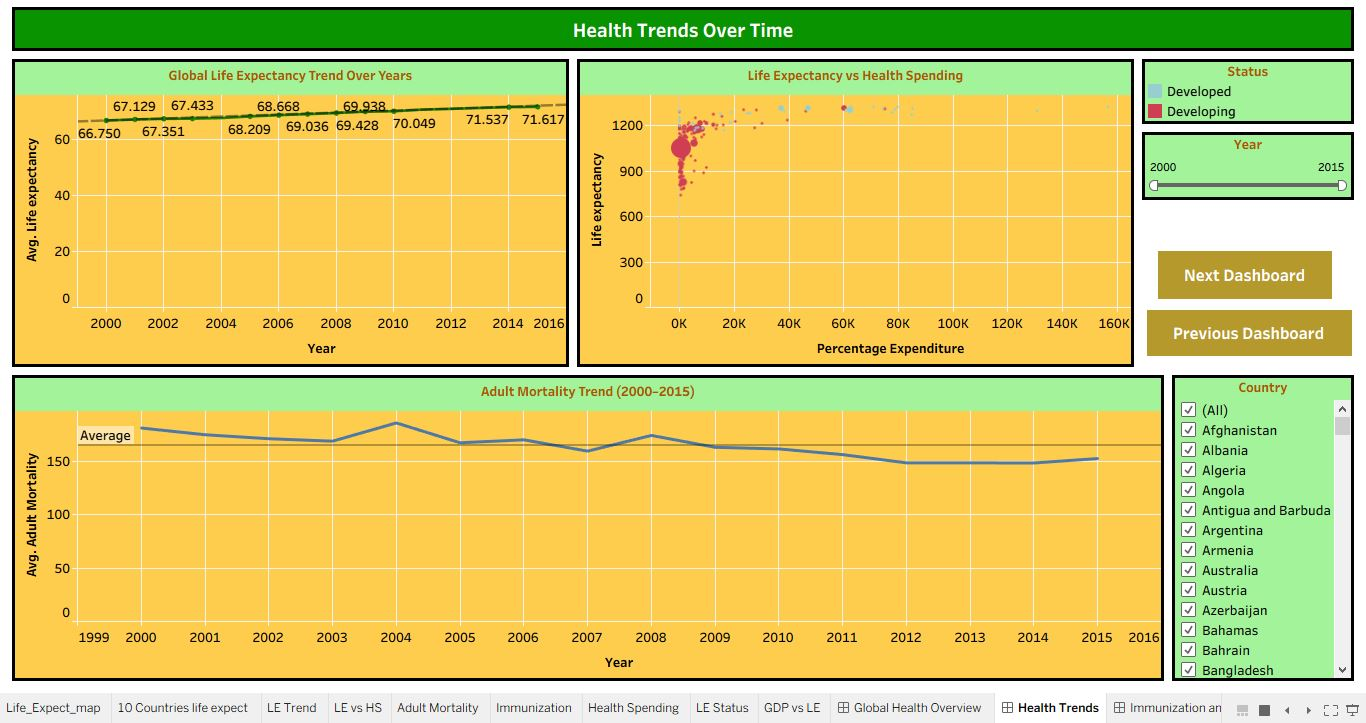

This screenshot's page, from the dashboard's own definition file:
{"tool":"tableau","page":{"name":"Health Trends","canvas":[1000,1000],"units":"permille","ordinal":1},"visuals":[{"type":"text","box":[6.9,14.5,986.1,74.3]},{"type":"worksheet","title":"LE Trend ","mark":"Line","rows":["Life expectancy "],"cols":["Year"],"box":[6.9,88.8,412.5,449.3]},{"type":"worksheet","title":"LE vs HS","mark":"Circle","rows":["Life expectancy "],"cols":["percentage expenditure"],"box":[419.5,88.8,412.6,449.3]},{"type":"legend","title":"LE vs HS","param":"[federated.0gwjj4a1etb9691c4ut6100xn9h3].[none:Status:nk]","box":[832,88.8,161.1,132.2]},{"type":"filter","title":"Adult Mortality","param":"[federated.0gwjj4a1etb9691c4ut6100xn9h3].[none:Year:qk]","box":[832,221,161.1,137.7]},{"type":"dashboard-object","box":[845.9,362.3,131.6,77.9]},{"type":"dashboard-object","box":[837.2,447.5,154.1,74.3]},{"type":"worksheet","title":"Adult Mortality","mark":"Automatic","rows":["Adult Mortality"],"cols":["Year"],"box":[6.9,538,847.6,447.5]},{"type":"filter","title":"Adult Mortality","param":"[federated.0gwjj4a1etb9691c4ut6100xn9h3].[none:Country:nk]","box":[854.5,538,138.6,447.5]}]}

Visuals, with their boxes on the dashboard's canvas, which has no fixed pixel size, in thousandths of its width and height (x1, y1, x2, y2). These are canvas units, not pixel positions in the 1366x723 screenshot, which may show the page scaled, cropped or inside an application window:
text: (7,14,993,89)
"LE Trend " worksheet (Line marks): (7,89,419,538)
"LE vs HS" worksheet (Circle marks): (420,89,832,538)
"LE vs HS" legend: (832,89,993,221)
"Adult Mortality" filter: (832,221,993,359)
dashboard-object: (846,362,978,440)
dashboard-object: (837,448,991,522)
"Adult Mortality" worksheet: (7,538,854,986)
"Adult Mortality" filter: (854,538,993,986)
